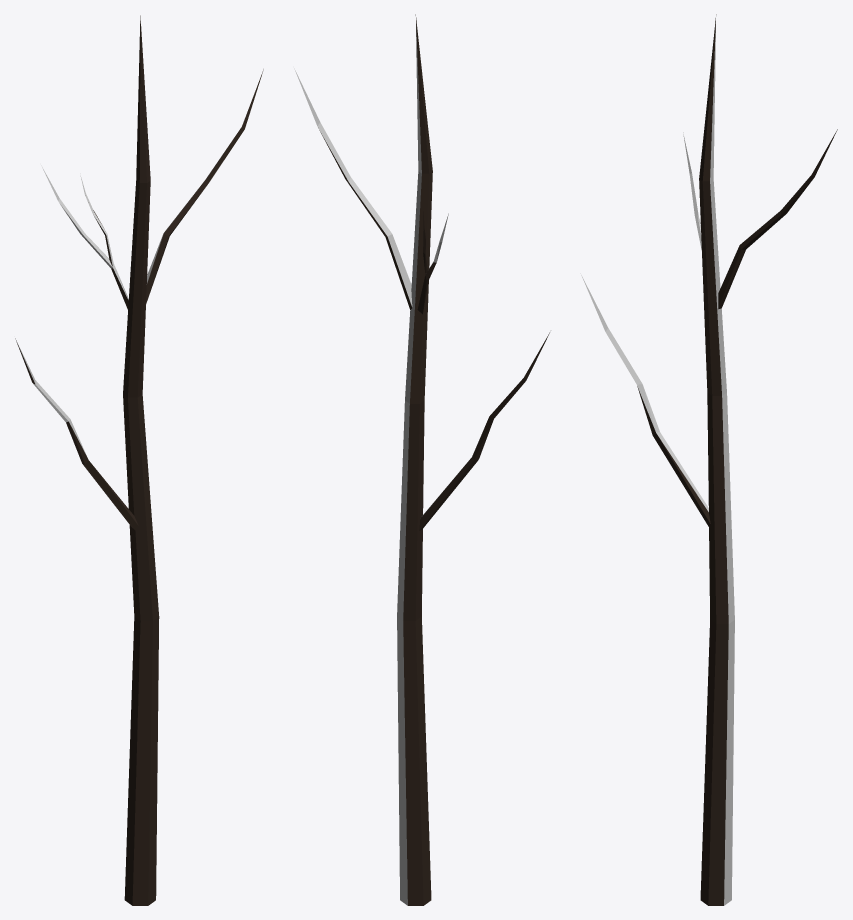
Rendered from foliage_sapling.fbx.
The picture shows the model from 3 angles, left to right: view 1: azimuth 30°, elevation 25°; view 2: azimuth 150°, elevation 25°; view 3: azimuth 330°, elevation 25°; orthographic projection.
Visible parts, largest first — view 1: sapling; view 2: sapling; view 3: sapling.
Part boxes in pixels (x1,y1,x2,y2): sapling: (15, 15, 263, 905); sapling: (294, 14, 549, 905); sapling: (580, 14, 837, 905).
Bounding box in the file's own units: 32.97 × 110 × 9.76.
